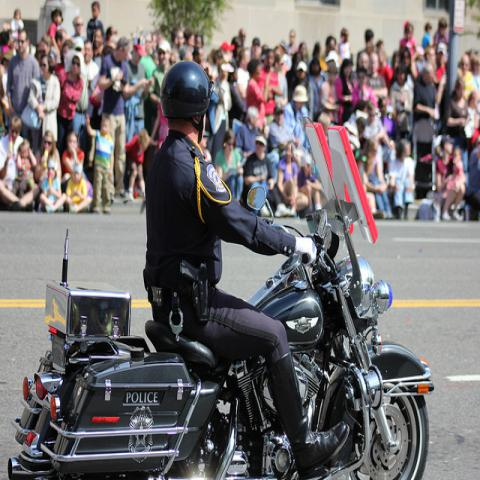motorcycle: (9, 119, 436, 474)
